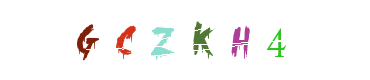4: (184, 0, 264, 80)
C: (82, 0, 162, 80)
G: (45, 0, 125, 80)
H: (172, 0, 252, 80)
K: (145, 0, 225, 80)
Z: (133, 0, 213, 80)
